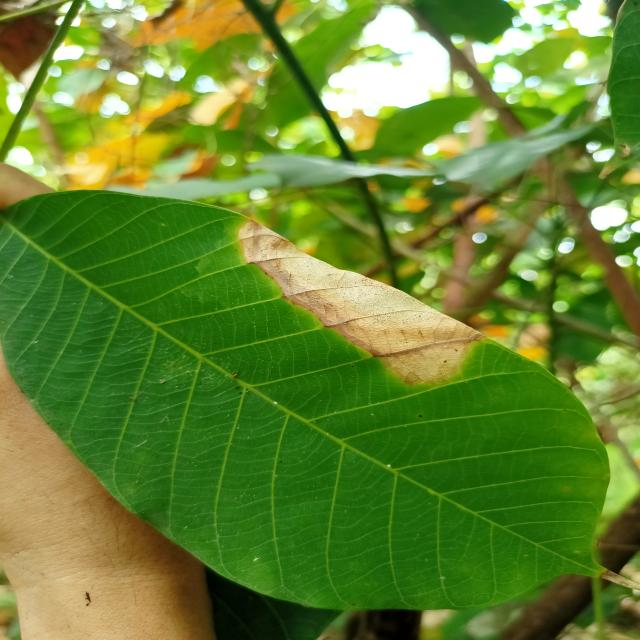Colletotrichum: (418, 414, 422, 418)
Leaf-Blight: (240, 219, 487, 386)
